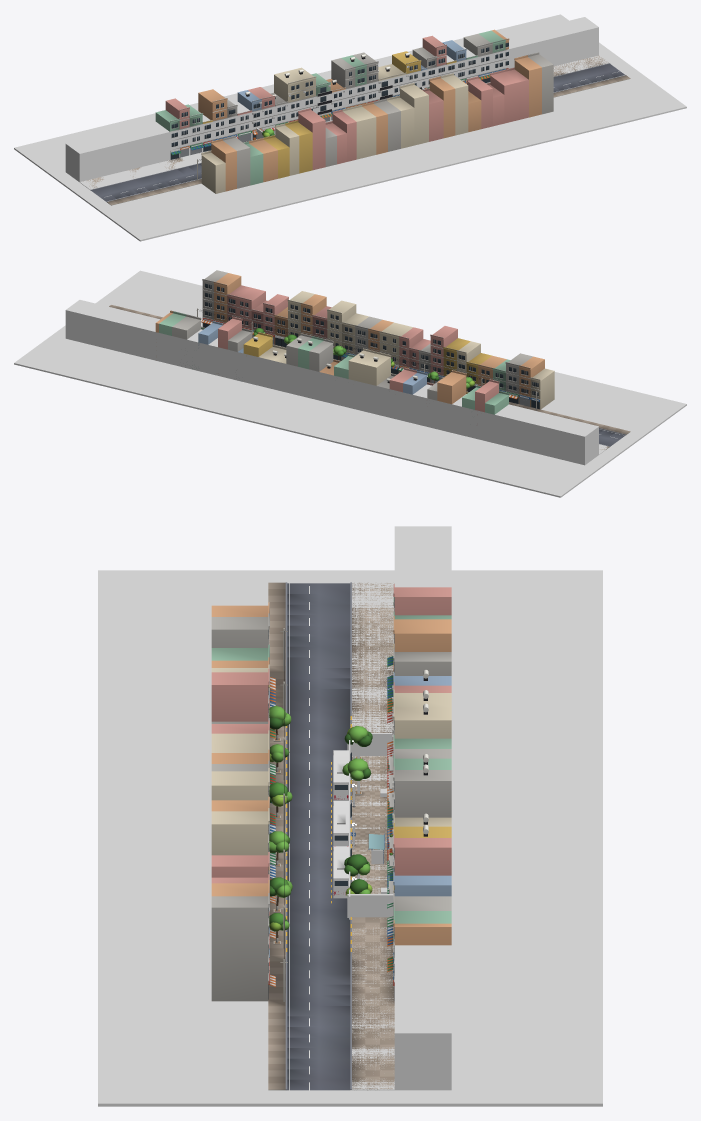
Rendered from zone_00_pickup.glb.
The picture shows the model from 3 angles, top to bottom: view 1: azimuth 30°, elevation 25°; view 2: azimuth 150°, elevation 25°; view 3: azimuth 270°, elevation 25°; orthographic projection. The views are drawn at different scales.
Visible parts, largest first — view 1: ENV_nha_pho_xa, COL_ground, COL_nha_bac, ENV_nha_pho, ENV_ground, COL_via_he_bac, ENV_bo_via; view 2: COL_ground, ENV_nha_pho_xa, COL_nha_bac, ENV_nha_pho, ENV_ground, ENV_vegetation; view 3: COL_ground, ENV_ground, ENV_nha_pho_xa, COL_nha_bac, ENV_nha_pho, COL_via_he_bac, ENV_vegetation, ENV_bo_via, COL_bien_dong.
Boxes of the visible parts, bbox=[...] form: ENV_nha_pho_xa: bbox=[155, 29, 553, 193]; COL_ground: bbox=[14, 14, 686, 241]; COL_nha_bac: bbox=[65, 17, 598, 181]; ENV_nha_pho: bbox=[237, 51, 427, 139]; ENV_ground: bbox=[83, 55, 630, 205]; COL_via_he_bac: bbox=[79, 55, 609, 189]; ENV_bo_via: bbox=[90, 63, 625, 201]; COL_ground: bbox=[14, 270, 686, 497]; ENV_nha_pho_xa: bbox=[155, 270, 554, 414]; COL_nha_bac: bbox=[65, 300, 598, 465]; ENV_nha_pho: bbox=[238, 332, 427, 394]; ENV_ground: bbox=[109, 305, 630, 449]; ENV_vegetation: bbox=[253, 328, 474, 391]; COL_ground: bbox=[98, 570, 602, 1106]; ENV_ground: bbox=[268, 582, 394, 1090]; ENV_nha_pho_xa: bbox=[211, 584, 451, 1001]; COL_nha_bac: bbox=[394, 526, 451, 1090]; ENV_nha_pho: bbox=[387, 670, 451, 908]; COL_via_he_bac: bbox=[350, 582, 394, 1090]; ENV_vegetation: bbox=[269, 705, 372, 944]; ENV_bo_via: bbox=[285, 582, 351, 1090]; COL_bien_dong: bbox=[347, 894, 393, 917].
Size of the model in its own units: 200 by 18.3 by 80.
